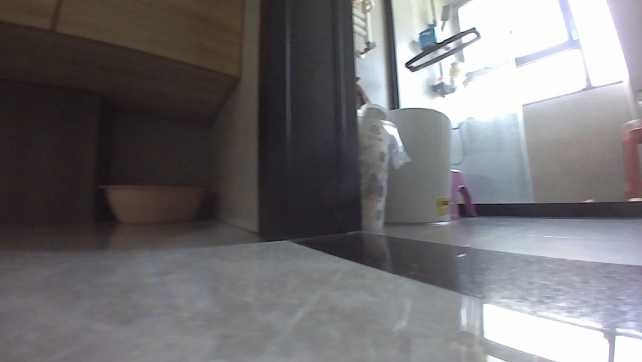door_sill: (292, 230, 640, 337)
toilet: (380, 101, 453, 225)
